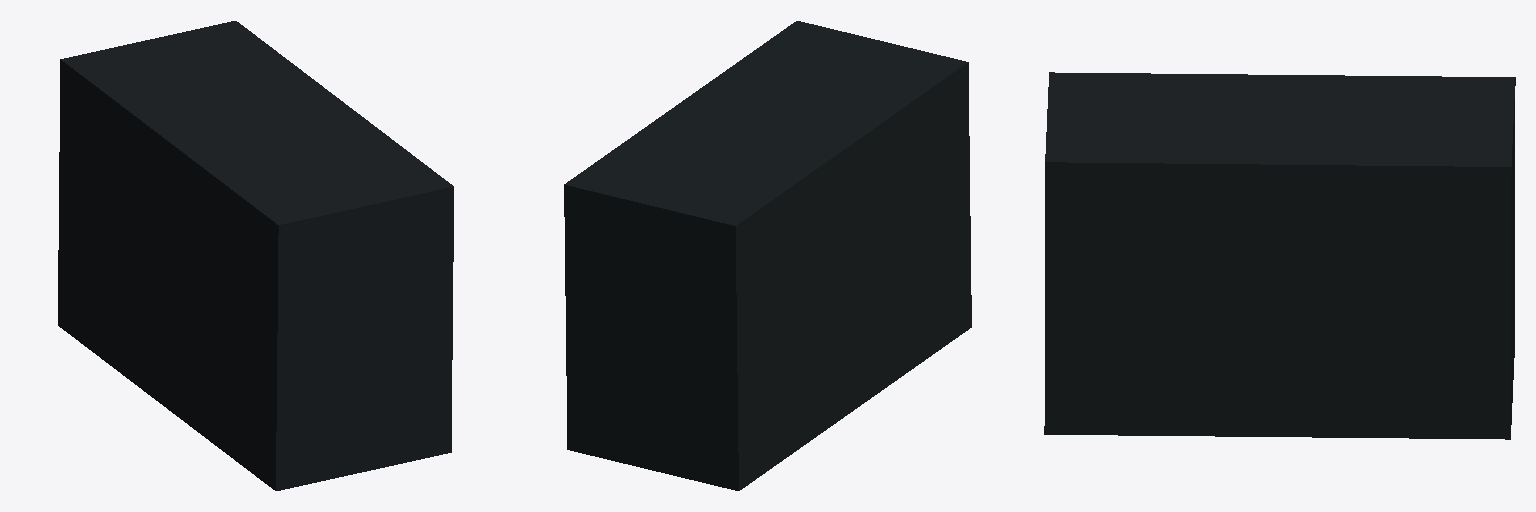
URDF robot description (gemini305_centered):
<?xml version="1.0"?>
<!-- Nominal CAD assembly. Origin approximates the midpoint of the two front lenses;
     actual RGB optical center and bracket fit require physical verification. -->
<robot name="gemini305_centered">
  <link name="gripper_end"/>
  <link name="camera_color_optical_frame">
    <!-- Approximate camera body; the optical frame remains the control reference. -->
    <visual><origin xyz="0 0 -0.012"/><geometry><box size="0.054 0.035 0.024"/></geometry><material name="camera"><color rgba="0.14 0.16 0.17 1"/></material></visual>
  </link>
  <link name="camera_mount_link">
    <visual><origin xyz="0.0002 -0.04472 0.03452"/><geometry><mesh filename="meshes/Gemini305_D405_Mount.stl" scale="0.001 0.001 0.001"/></geometry><material name="mount"><color rgba="0.05 0.05 0.06 1"/></material></visual>
  </link>
  <joint name="gripper_to_mount" type="fixed">
    <parent link="gripper_end"/><child link="camera_mount_link"/>
    <origin xyz="-0.1201 0.0003 0.045" rpy="1.5827 0.0024 1.5515"/>
  </joint>
  <joint name="gripper_to_color_optical" type="fixed">
    <parent link="gripper_end"/>
    <child link="camera_color_optical_frame"/>
    <origin xyz="-0.08247829 -0.00036825 0.07237040" rpy="-1.5827 -0.0024 -1.59009265"/>
  </joint>
</robot>

--- What the picture shows (computed from the rendered views, not written in the file) ---
3 views of the same robot in one strip: view 1: azimuth 30°, elevation 25°; view 2: azimuth 150°, elevation 25°; view 3: azimuth 270°, elevation 25° (orthographic).
Model gemini305_centered with 3 links and 2 joints (2 fixed), rooted at gripper_end, posed all joints at 0.
Visible links, largest first — view 1: camera_color_optical_frame; view 2: camera_color_optical_frame; view 3: camera_color_optical_frame.
Link boxes in pixels (x1,y1,x2,y2): camera_color_optical_frame: (58,21,453,490); camera_color_optical_frame: (564,21,971,490); camera_color_optical_frame: (1044,72,1515,439).
Bounding box of the posed robot: 0.0255 × 0.0545 × 0.0354 m (x, y, z).
0 mesh visuals loaded from 1 distinct referenced files (none loaded); not drawn: 1 (reference not matched to a file when rendering).
